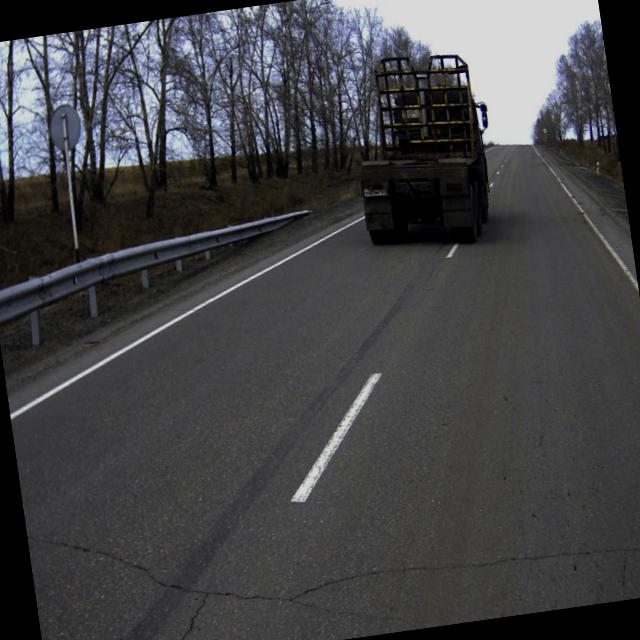road: (7, 145, 640, 640)
